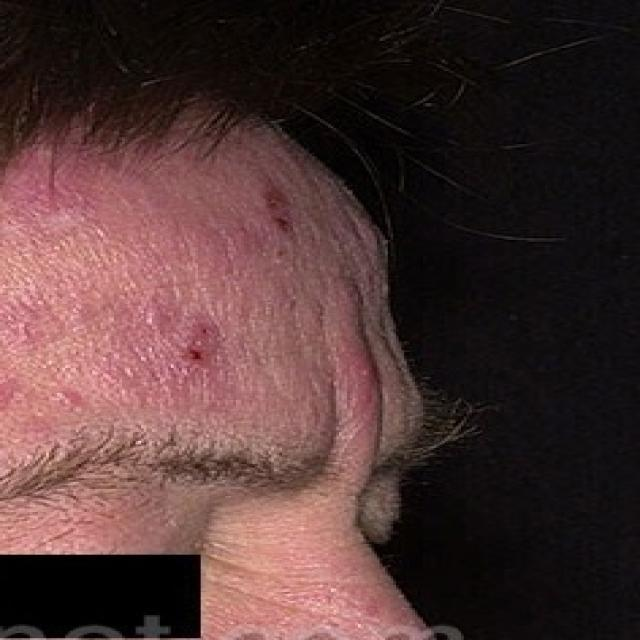Rosacea: (0, 164, 239, 434), (335, 332, 380, 444)
